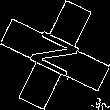N_SE: (23, 26, 87, 84)
